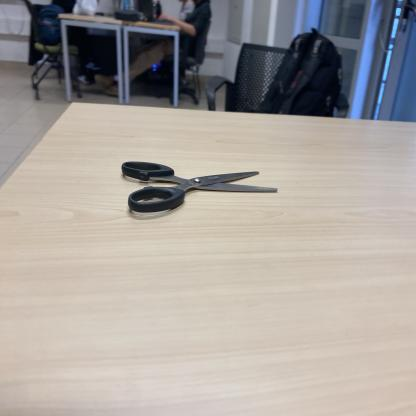scissors: (120, 164, 280, 218)
